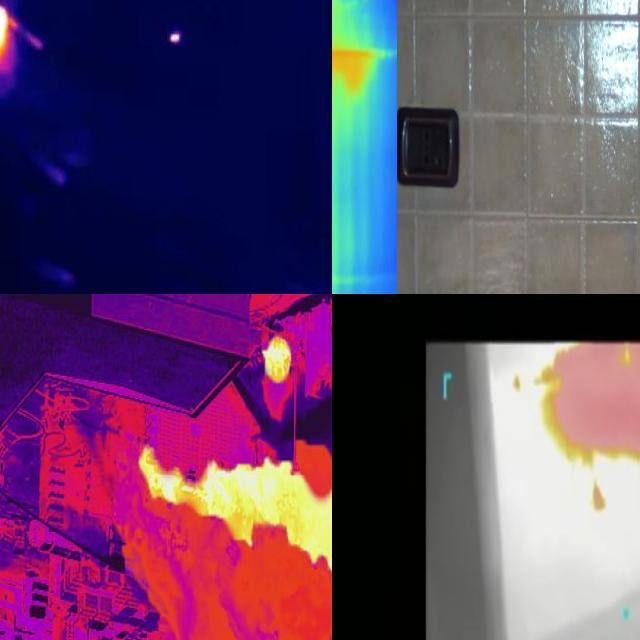fire: (113, 428, 333, 640), (535, 338, 640, 520), (1, 1, 16, 71)
